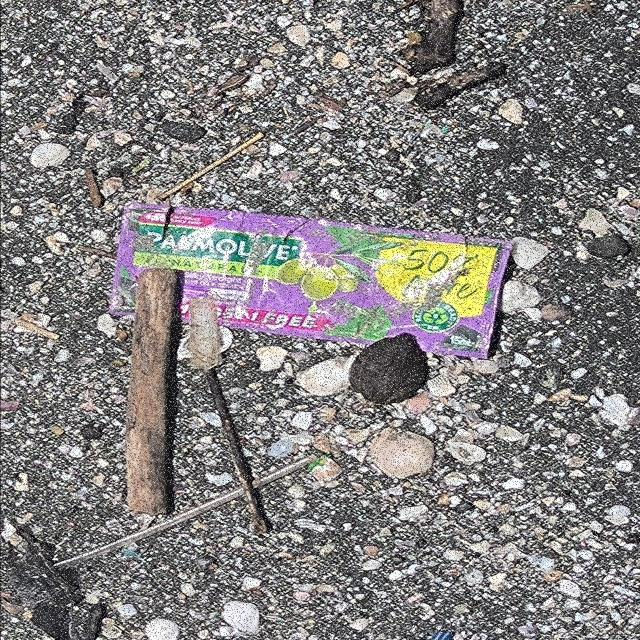plastic_waste: (107, 203, 515, 361)
